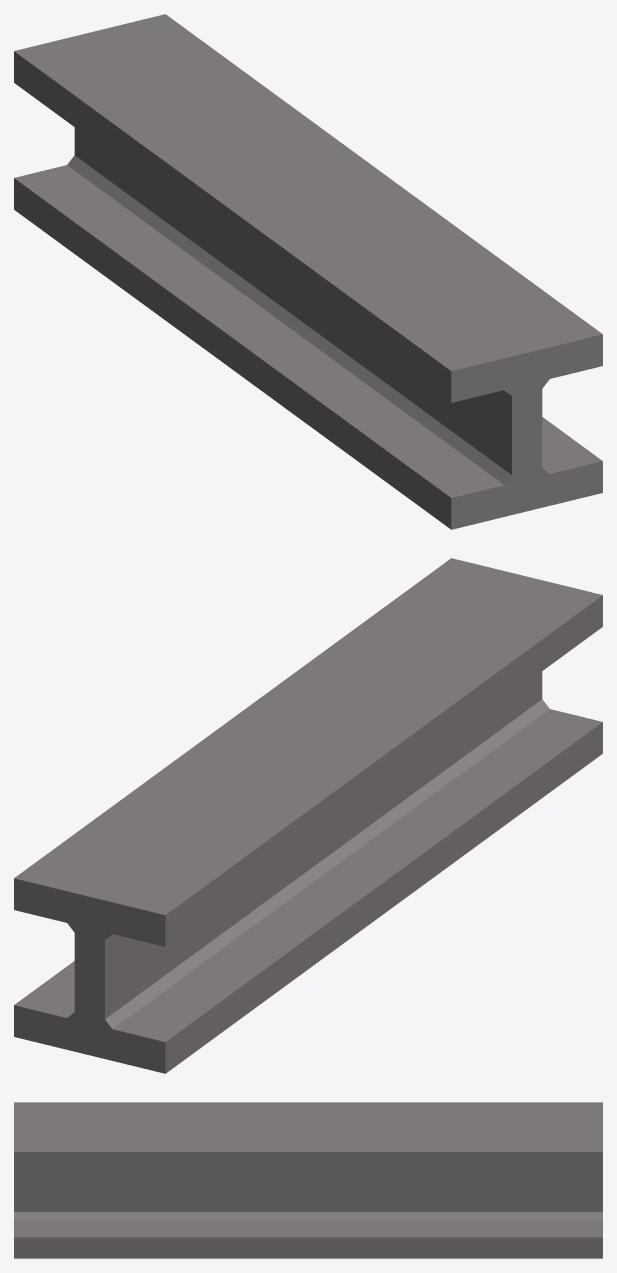
File: steel-beam.glb
3 views of the same model, one above another, from view 1: azimuth 30°, elevation 25°; view 2: azimuth 150°, elevation 25°; view 3: azimuth 270°, elevation 25° (orthographic). The views are drawn at different scales.
Visible parts, largest first — view 1: steel-beam; view 2: steel-beam; view 3: steel-beam.
Part boxes in pixels (left/top/right/bottom): steel-beam: left=14, top=14, right=602, bottom=529; steel-beam: left=14, top=558, right=602, bottom=1073; steel-beam: left=14, top=1102, right=602, bottom=1258.
Size of the model in its own units: 0.2 by 0.2 by 1.
1 material, 1 textured.
